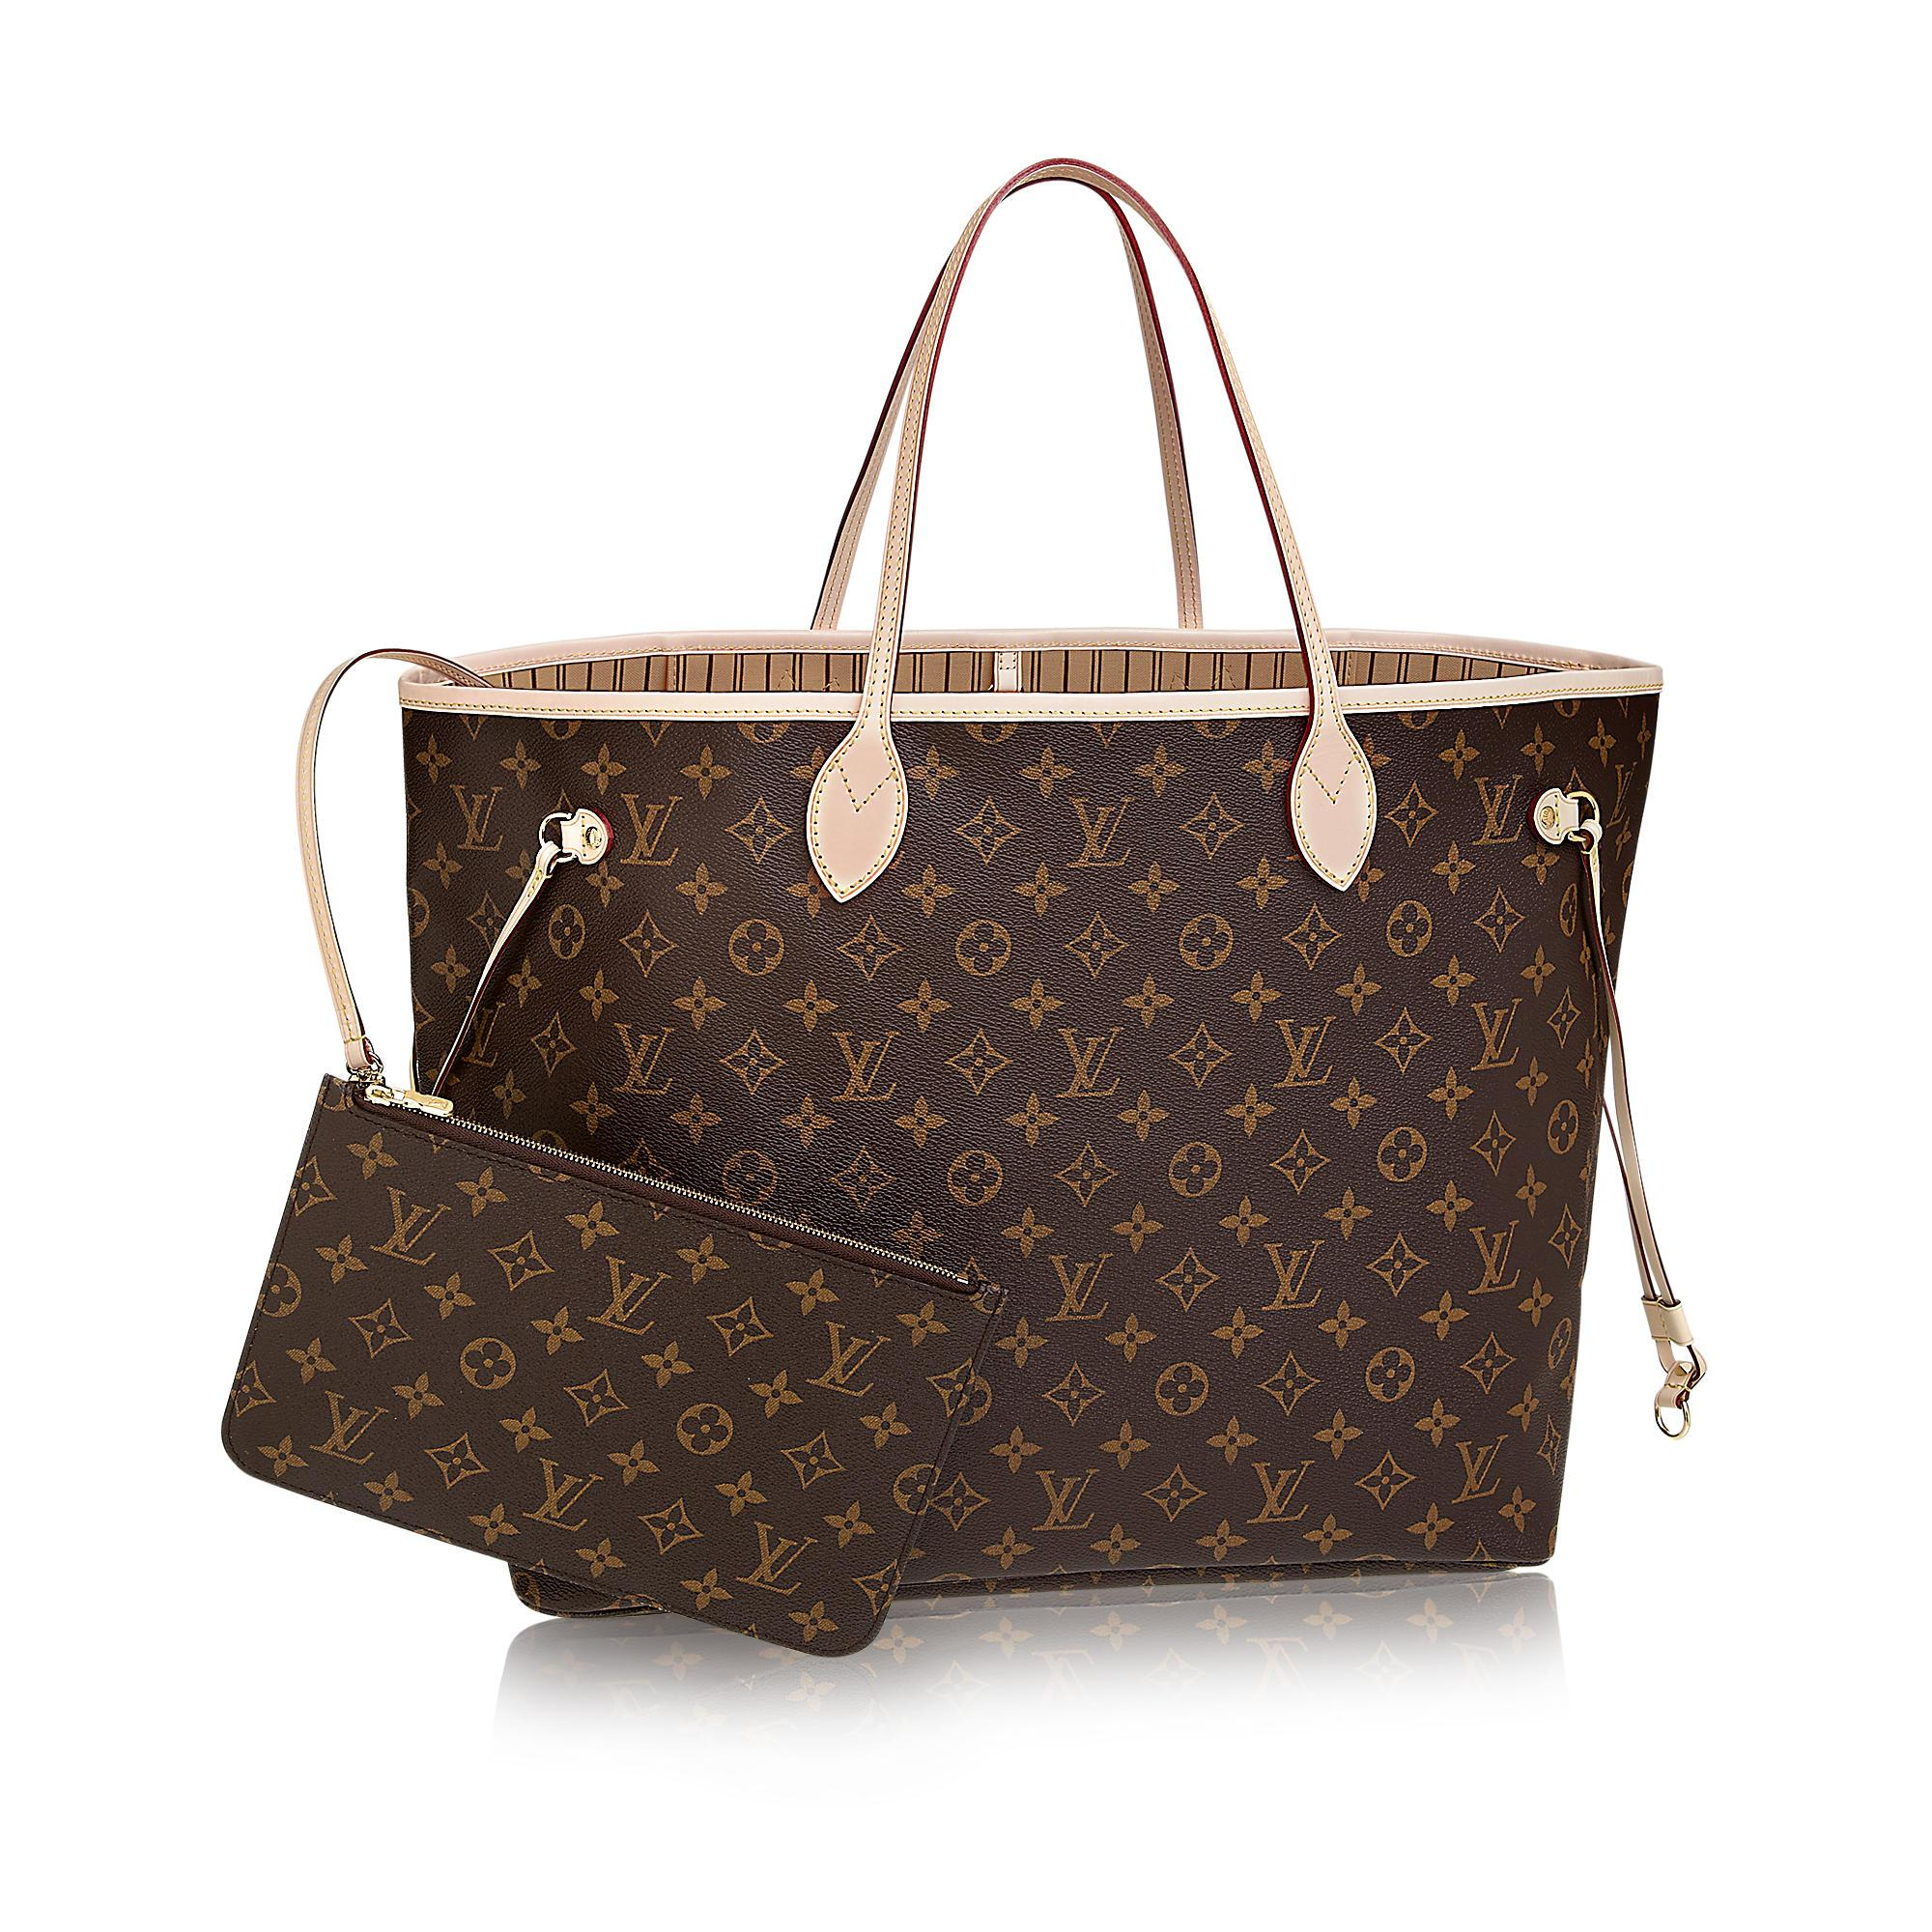LOUIS-VUITTON: (366, 1178, 449, 1267), (732, 1520, 821, 1599), (586, 1256, 669, 1338), (805, 1322, 893, 1398), (520, 1454, 602, 1530), (1053, 1021, 1127, 1102), (308, 1389, 386, 1465), (823, 1026, 899, 1104), (607, 1016, 676, 1099), (1042, 1247, 1111, 1329), (614, 787, 683, 869), (1063, 791, 1136, 867), (1258, 1235, 1325, 1315), (1270, 1014, 1338, 1093), (1244, 1454, 1316, 1527), (1461, 1219, 1525, 1300), (1465, 996, 1525, 1077), (1030, 1465, 1099, 1536), (444, 778, 508, 855), (1444, 1433, 1507, 1507), (1467, 771, 1525, 849), (464, 991, 508, 1069)
